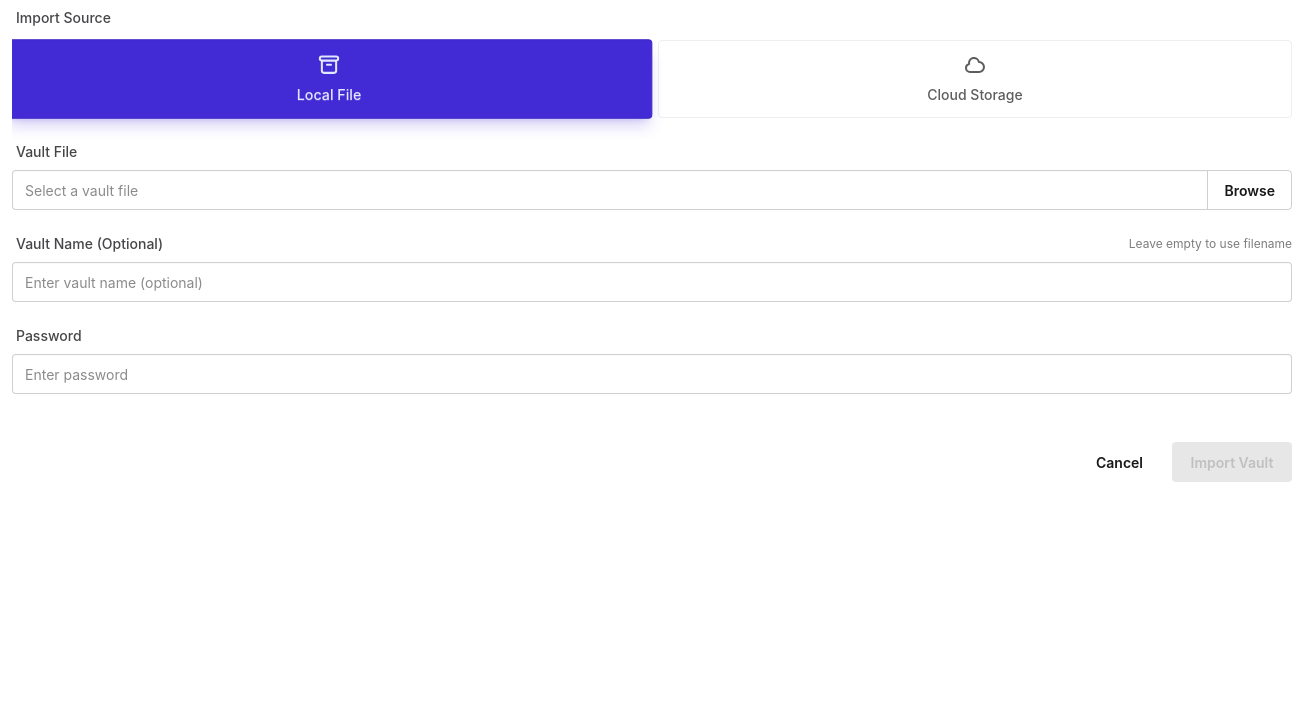
it: ImportVaultForm with Cloud Storage › Cloud Vault Selection › should show message when no cloud vaults found
Click the button "Cloud Storage" at (975, 79), box left=658, top=40, right=1292, bottom=118
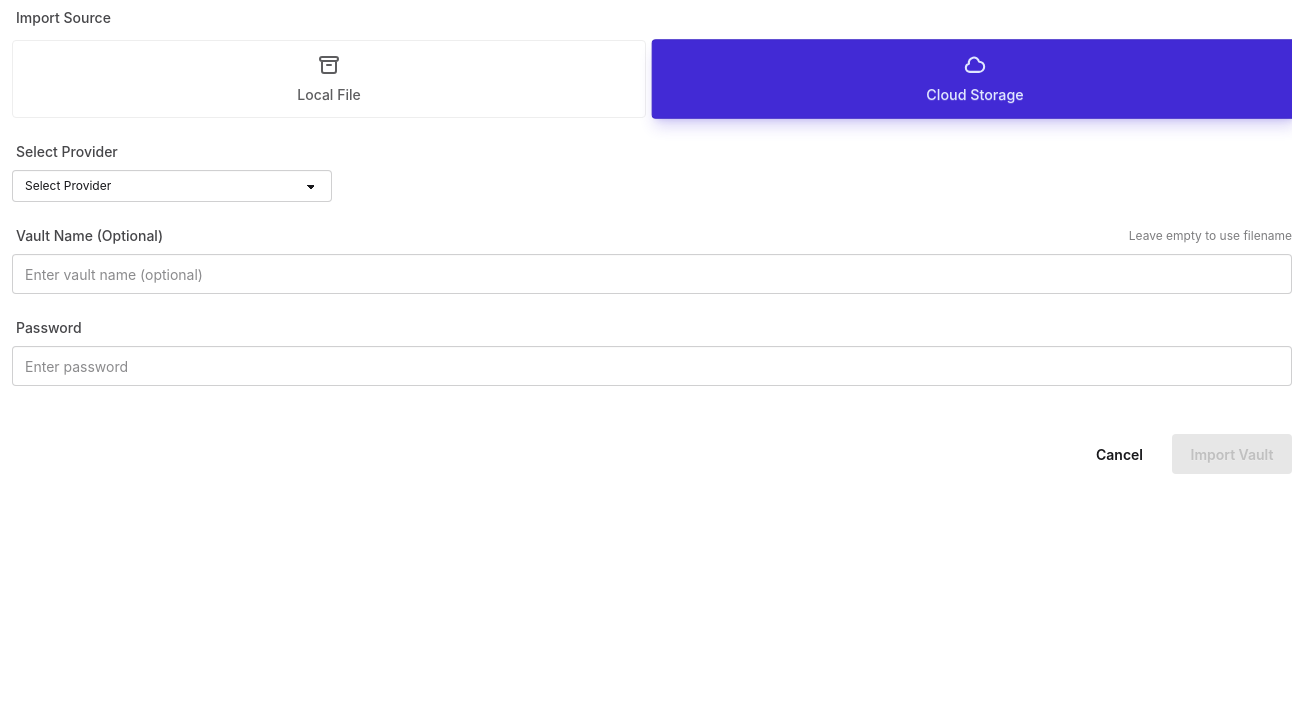
Select "google-drive (google_drive)" in the dropdown showing "Select Provider" at (172, 186), box left=12, top=170, right=332, bottom=202
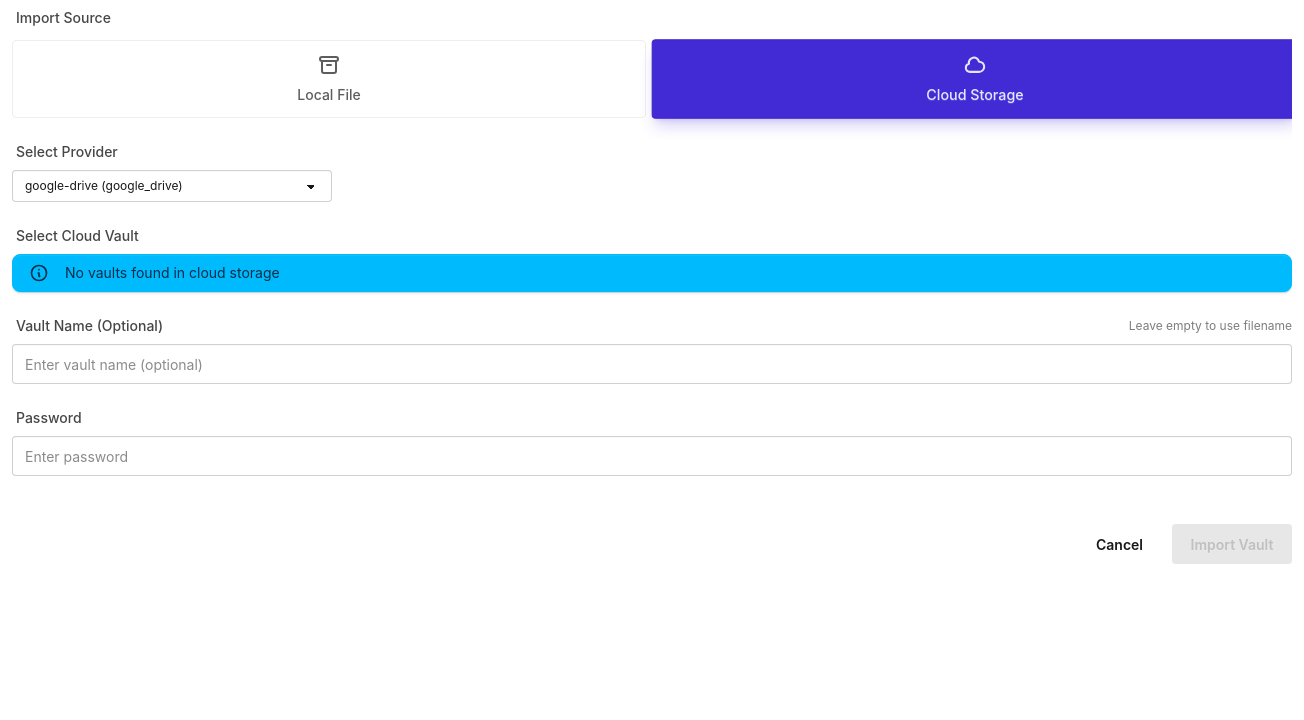
expect the text "No vaults found in cloud storage" is shown: met, box left=65, top=263, right=280, bottom=283
